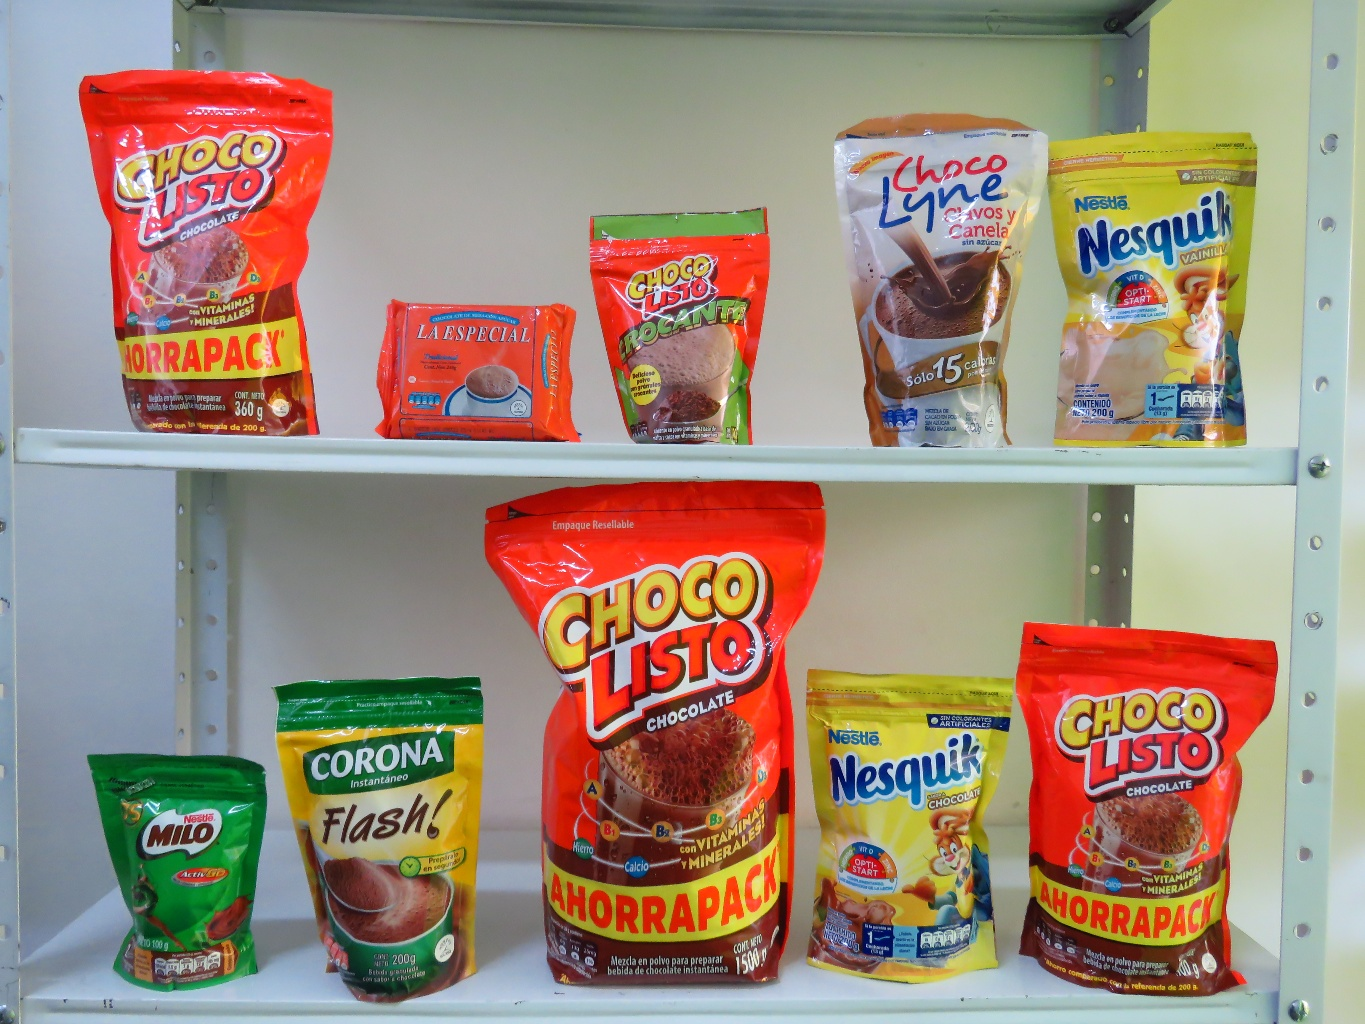COL0170102DYP10000: (583, 196, 779, 451)
COL0170103DYP1,500: (473, 475, 844, 1007)
COL0170103DYP36000: (68, 68, 333, 459)
COL0170103DYP40000: (1023, 620, 1280, 998)
COL0170203DYP10000: (91, 744, 280, 992)
COL0170303DYP20000: (812, 663, 1024, 992)
COL0170306DYP20000: (1043, 123, 1267, 443)
